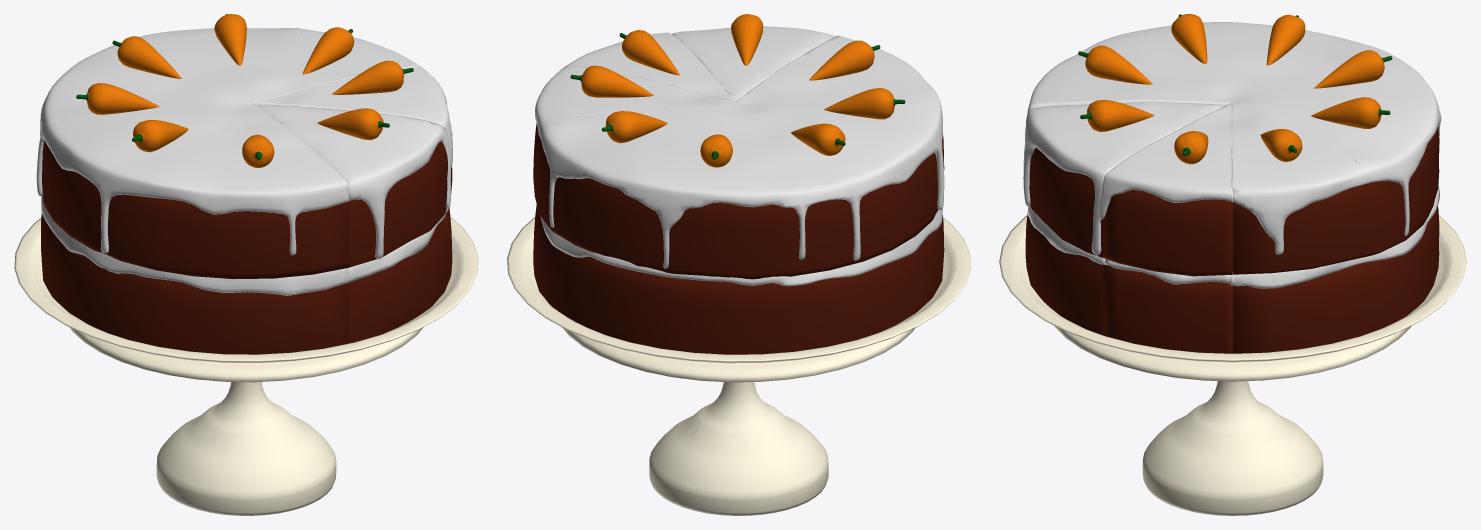
File: CARROTNEW.glb
3 renders of one model, left to right at view 1: azimuth 30°, elevation 25°; view 2: azimuth 150°, elevation 25°; view 3: azimuth 270°, elevation 25°, orthographic.
Visible parts, largest first — view 1: cale_stand, new_cake.001, new_cake.002; view 2: cale_stand, new_cake.001, new_cake.002; view 3: cale_stand, new_cake.002, new_cake.001.
Boxes of the visible parts, <box> form: cale_stand: <box>14,14,478,515</box>; new_cake.001: <box>254,104,451,343</box>; new_cake.002: <box>251,60,452,282</box>; cale_stand: <box>507,35,970,515</box>; new_cake.001: <box>672,14,835,101</box>; new_cake.002: <box>565,30,734,101</box>; cale_stand: <box>999,14,1466,515</box>; new_cake.002: <box>1099,102,1233,353</box>; new_cake.001: <box>1023,100,1225,334</box>.
Bounding box in the file's own units: 0.2703 × 0.2593 × 0.2703.
